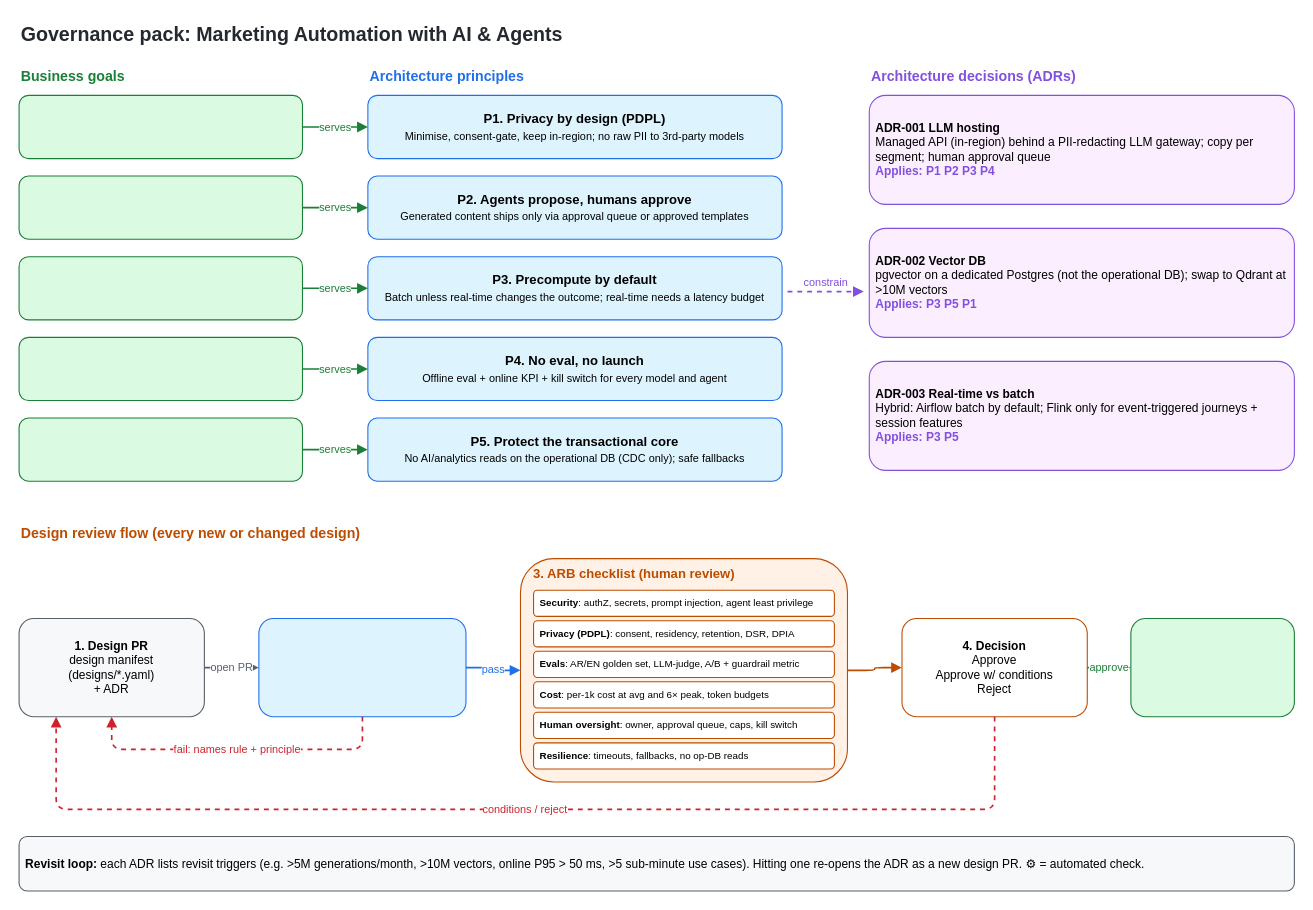
Some shapes in this 1313 by 910 pixel diagram are drawn without their labels. Here are the shapes that lost their labels. From the top down, the centre of each, then its label:
At point (160, 126): "G2 Customer trust & PDPL compliance".
At point (160, 207): "G5 Brand safety".
At point (160, 288): "G3 Lower cost per conversion".
At point (160, 368): "G1 Repeat revenue / conversion uplift".
At point (160, 449): "G4 Checkout always available".
At point (362, 667): "2. CI guardrail ⚙ tools/arb_guardrail.py ADR lint + rules R1–R8".
At point (1212, 667): "5. Merge ADR → Accepted design goes live".
